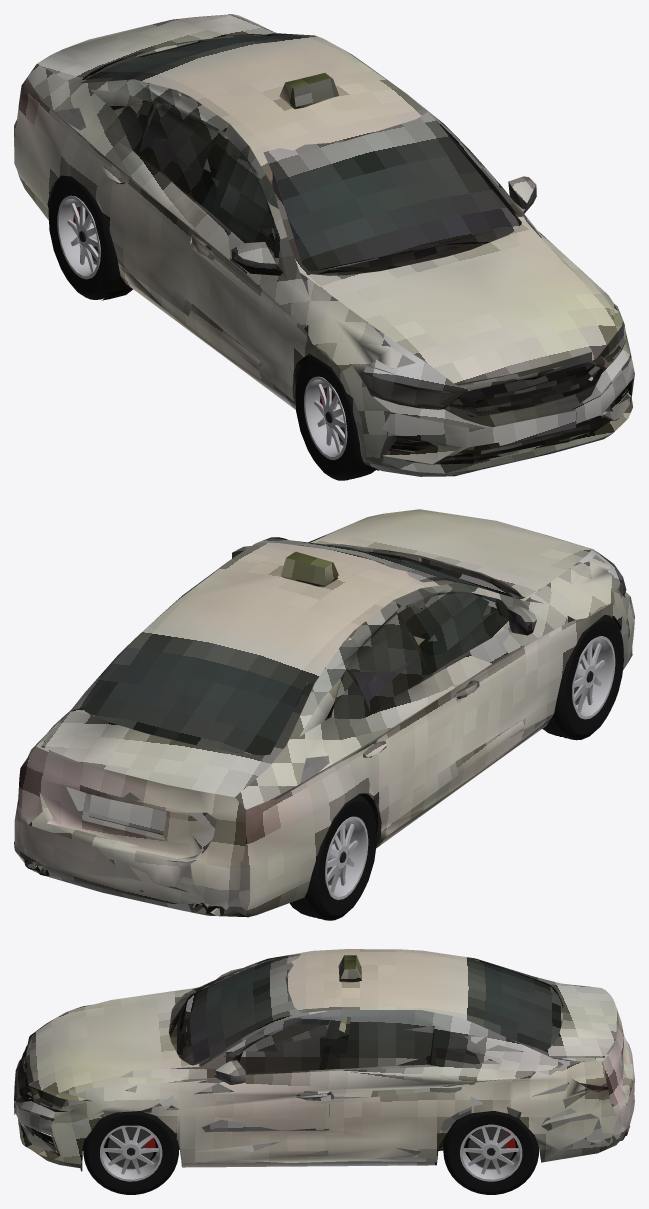
The model's file is taxi_m.glb.
The picture shows the model from 3 angles, top to bottom: view 1: azimuth 30°, elevation 25°; view 2: azimuth 150°, elevation 25°; view 3: azimuth 270°, elevation 25°; orthographic projection. The views are drawn at different scales.
Parts seen in each view (by area): view 1: karosserie, rad_hr, rad_vr; view 2: karosserie, rad_hr, rad_vr; view 3: karosserie, rad_hl, rad_vl.
Part boxes in pixels (<box>): karosserie: <box>14,14,634,476</box>; rad_hr: <box>48,175,119,299</box>; rad_vr: <box>295,355,376,480</box>; karosserie: <box>14,509,634,917</box>; rad_hr: <box>289,794,376,920</box>; rad_vr: <box>542,615,623,740</box>; karosserie: <box>14,949,634,1171</box>; rad_hl: <box>443,1111,538,1194</box>; rad_vl: <box>83,1111,178,1194</box>.
Size of the model in its own units: 1.96 by 1.6 by 4.8.
3 materials, 1 textured.
